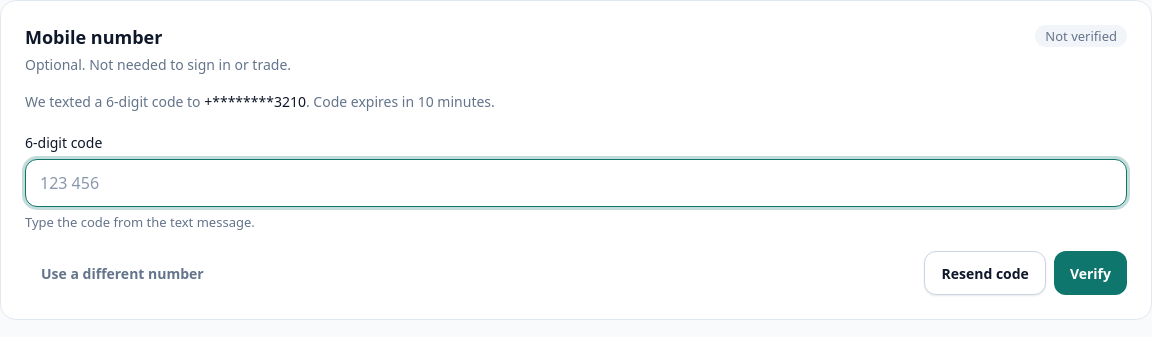
Scenario: MobileCard › shows a wrong code next to the field and lets the person retry
Type "000000" into the field labelled "6-digit code" at {"x": 576, "y": 183}, box top-left (25, 159), bottom-right (1127, 207)
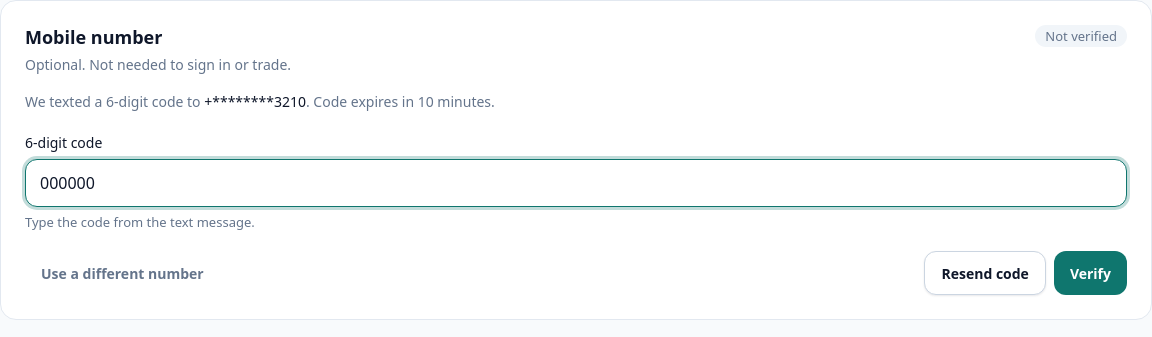
Click the button "Verify" at {"x": 1090, "y": 273}, box top-left (1054, 251), bottom-right (1127, 295)
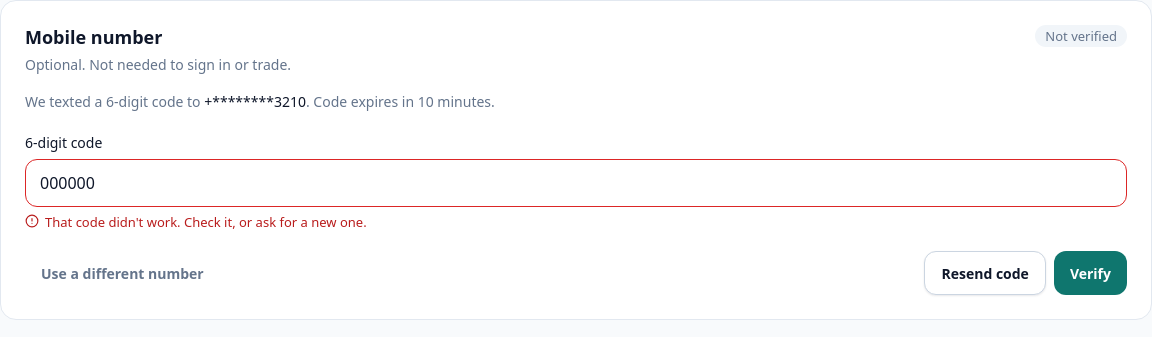
Check: the text "That code didn't work. Check it, or ask for a new one." is shown, box top-left (25, 213), bottom-right (367, 231)
